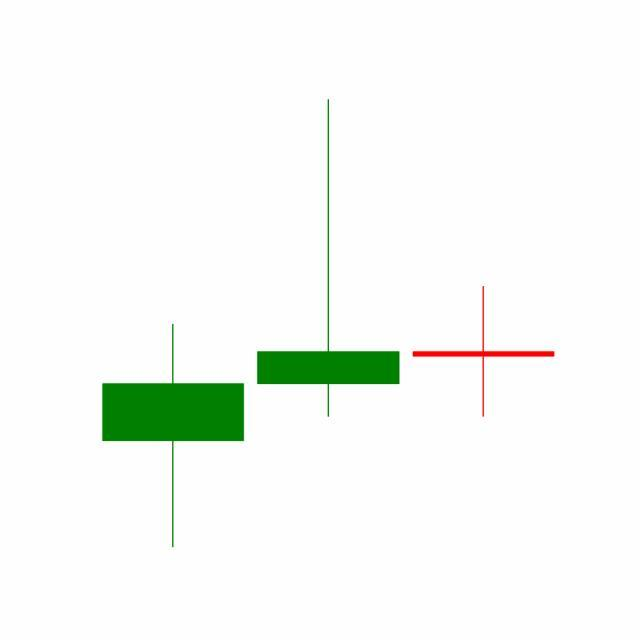Spinning Top: (406, 285, 562, 420)
